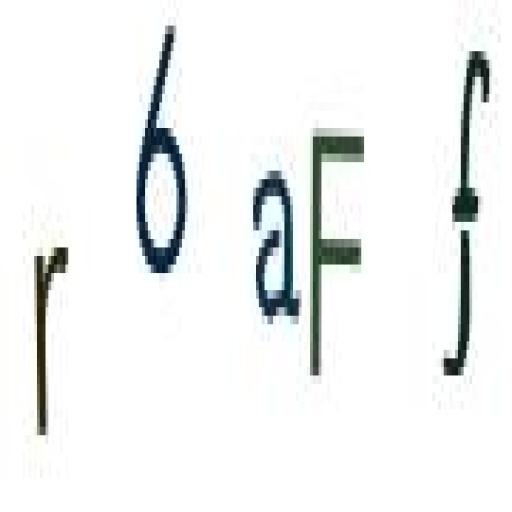6: (129, 19, 196, 290)
F: (308, 110, 369, 390)
a: (248, 147, 304, 343)
f: (438, 31, 495, 404)
r: (29, 217, 73, 448)
